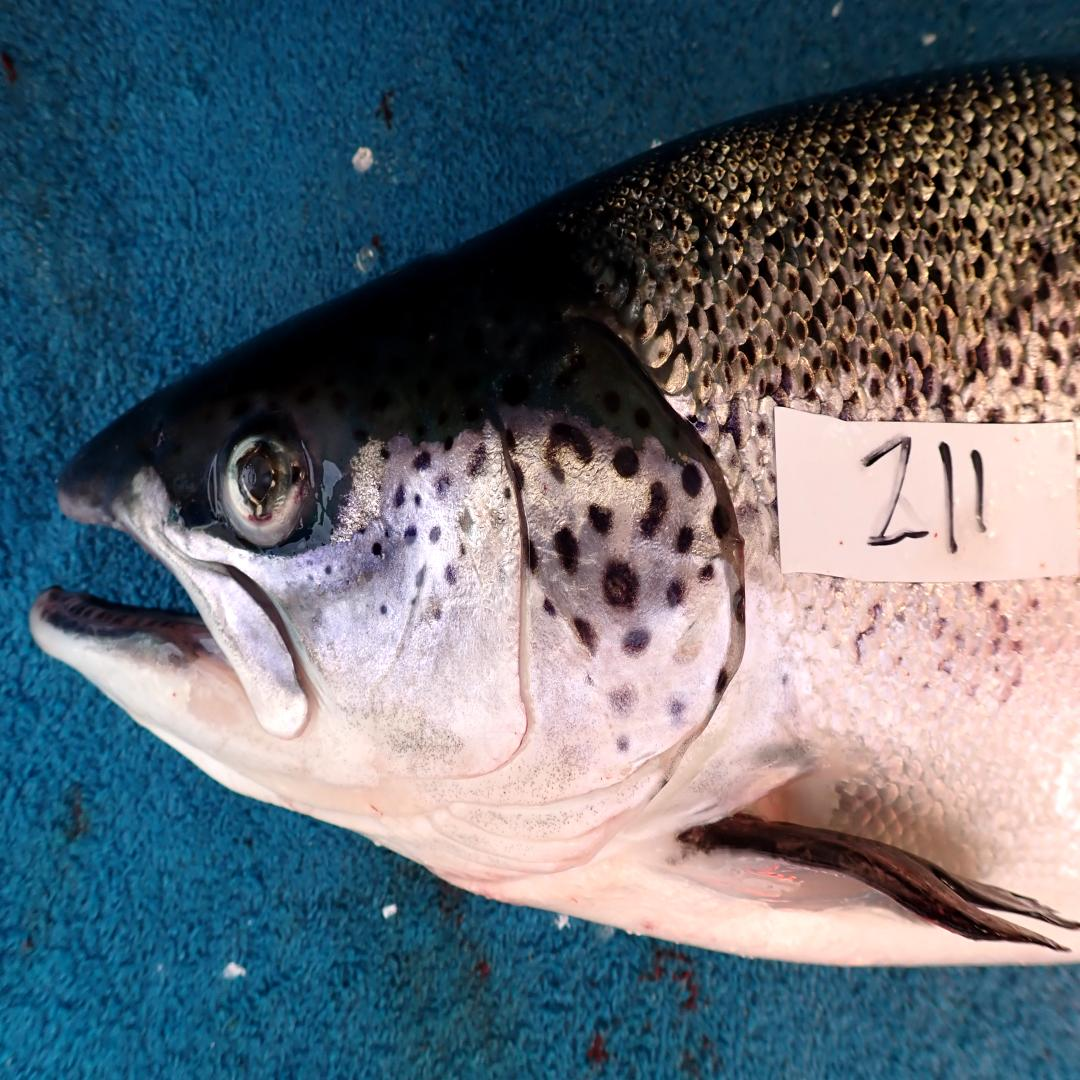roi: (308, 410, 743, 891)
